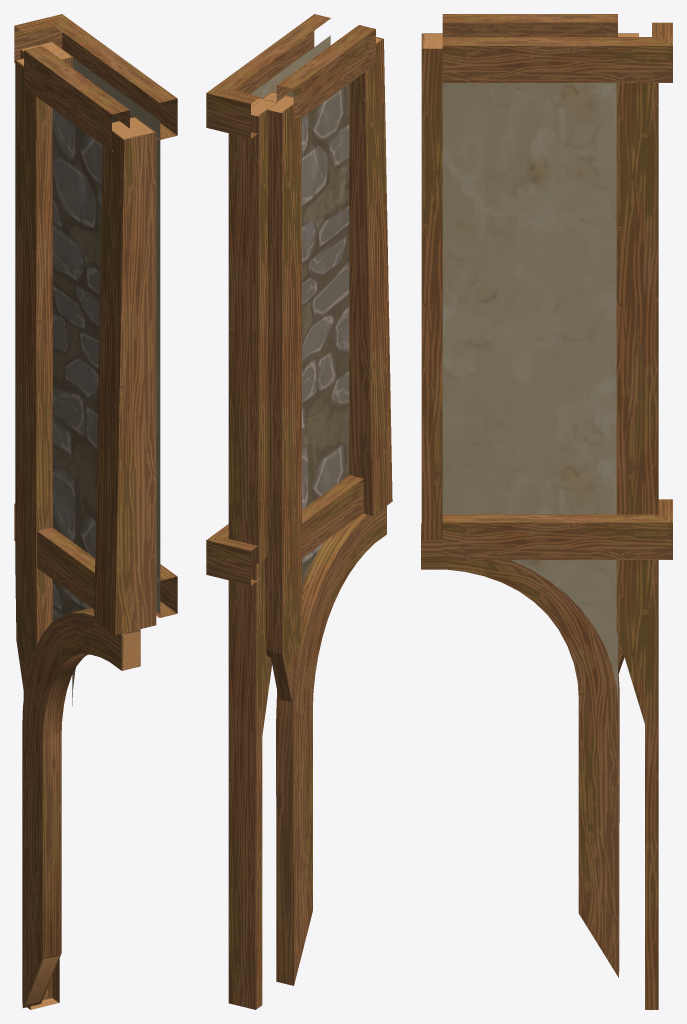
The model's file is overhang_side_uneven_brick_short_l.gltf.
3 views of the same model, side by side, from view 1: azimuth 30°, elevation 25°; view 2: azimuth 150°, elevation 25°; view 3: azimuth 270°, elevation 25° (orthographic). The views are drawn at different scales.
Parts seen in each view (by area): view 1: Overhang_Side_UnevenBrick_Short_L; view 2: Overhang_Side_UnevenBrick_Short_L; view 3: Overhang_Side_UnevenBrick_Short_L.
Part boxes in pixels (x1,y1,x2,y2): Overhang_Side_UnevenBrick_Short_L: [14, 14, 177, 1009]; Overhang_Side_UnevenBrick_Short_L: [206, 14, 392, 1009]; Overhang_Side_UnevenBrick_Short_L: [421, 14, 672, 1009].
Bounding box in the file's own units: 0.4793 × 6.12 × 1.44.
Materials: 3 (3 with a texture image).
